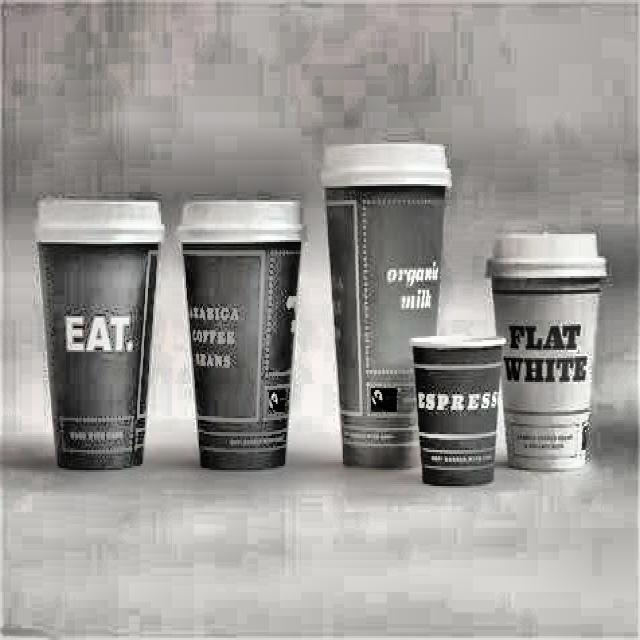Cup: (26, 187, 167, 478), (325, 132, 442, 464), (176, 193, 312, 464), (489, 219, 613, 479), (404, 303, 510, 502)
